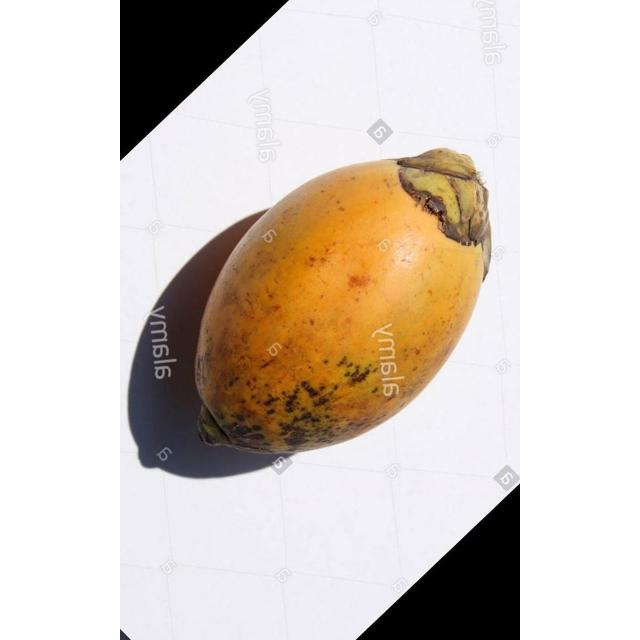good: (193, 148, 493, 460)
